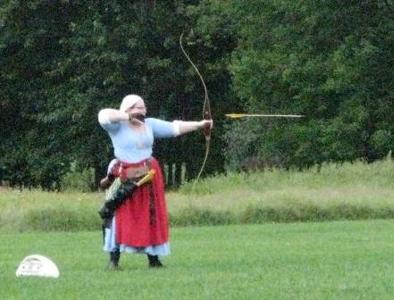person: (97, 95, 214, 269)
